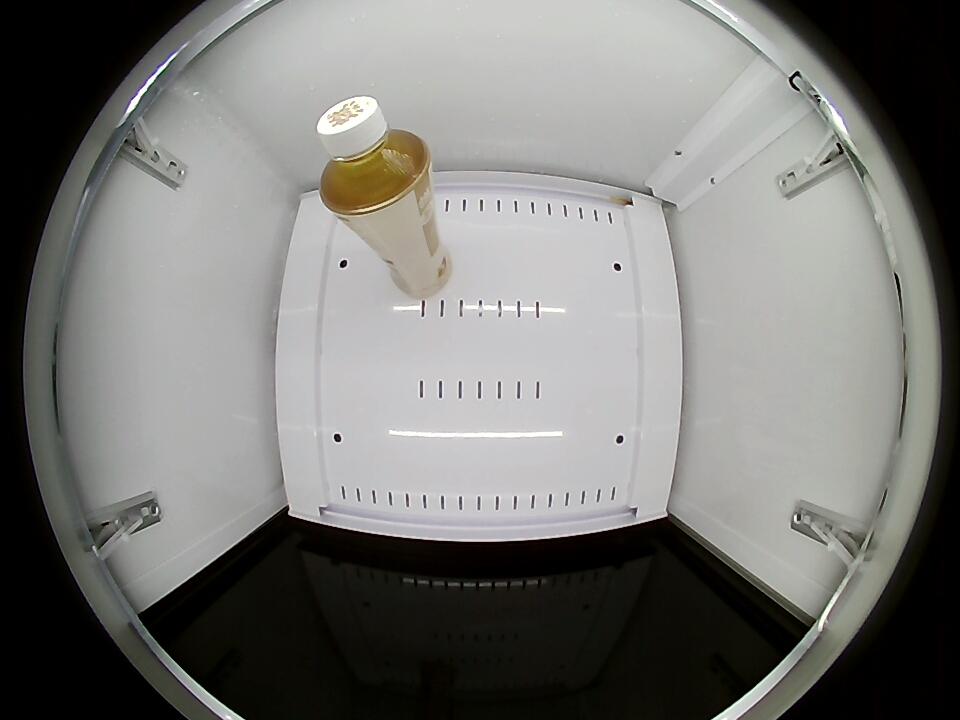rancha-2: (316, 95, 430, 218)
